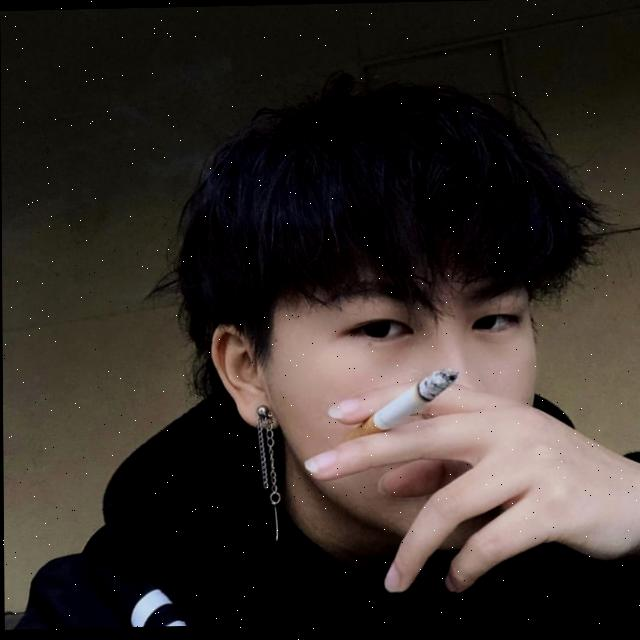cigarette: (337, 369, 460, 445)
